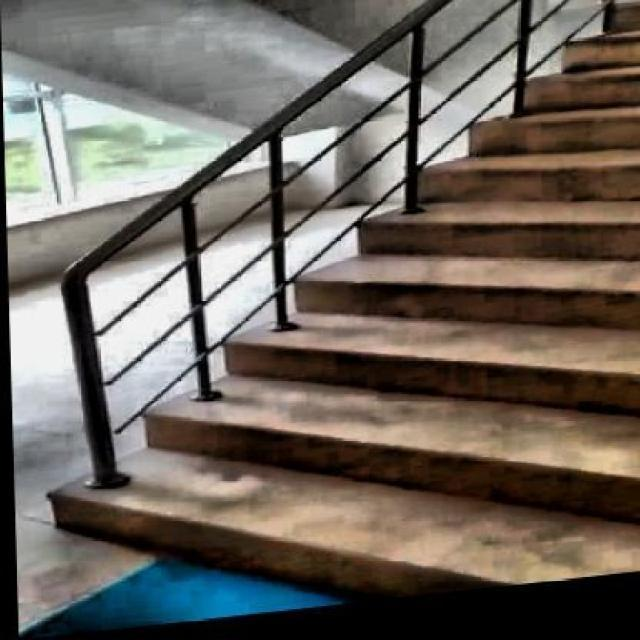stair: (23, 3, 639, 637)
